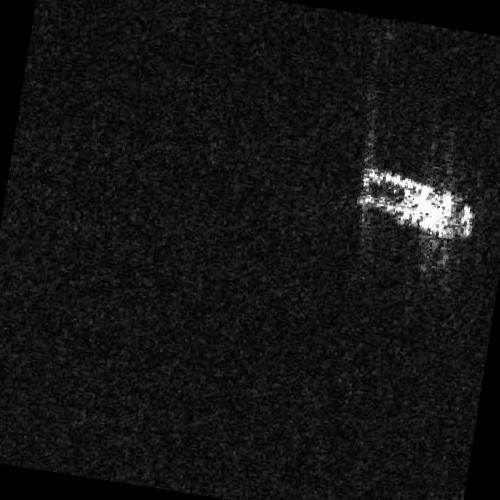ship: (355, 165, 476, 240)
